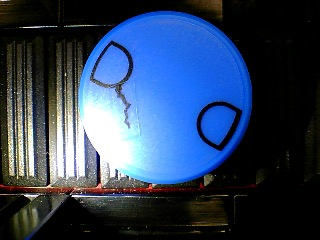CRACK: (77, 11, 253, 185)
